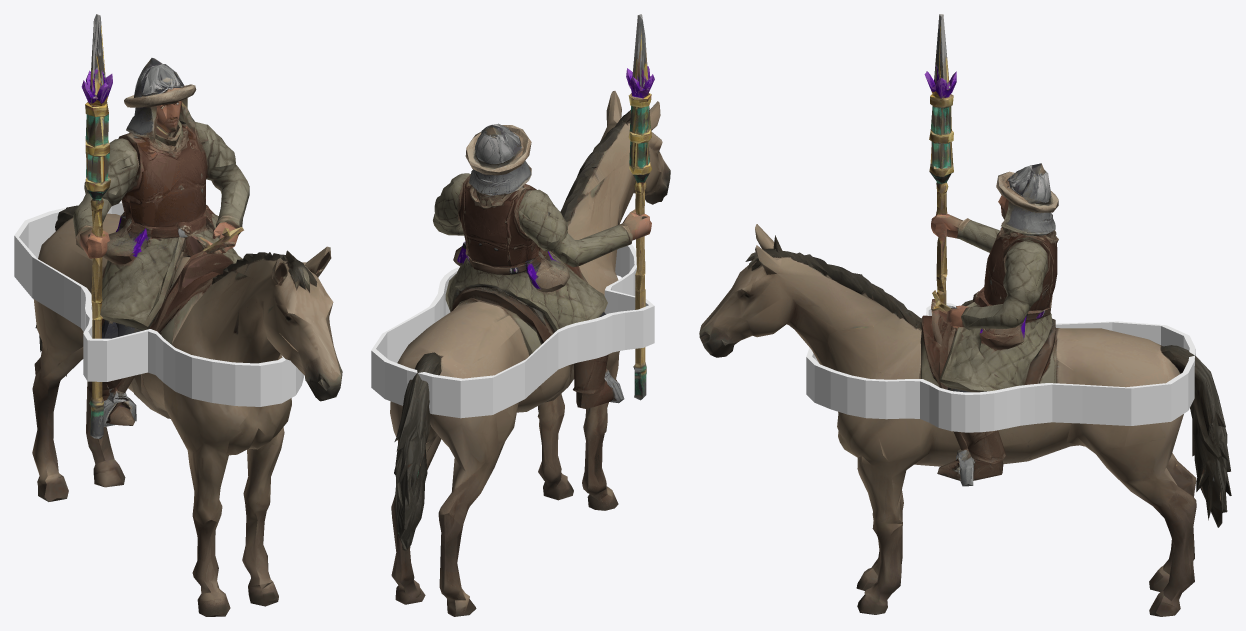
The model's file is steppe_fire_lancer.glb.
3 renders of one model, left to right at view 1: azimuth 30°, elevation 25°; view 2: azimuth 150°, elevation 25°; view 3: azimuth 270°, elevation 25°, orthographic. The views are drawn at different scales.
Visible parts, largest first — view 1: steppe_fire_lancer, Team_band; view 2: steppe_fire_lancer, Team_band; view 3: steppe_fire_lancer, Team_band.
Boxes of the visible parts, left/top/right/bottom form: steppe_fire_lancer: left=32, top=14, right=342, bottom=616; Team_band: left=14, top=200, right=304, bottom=406; steppe_fire_lancer: left=390, top=14, right=670, bottom=616; Team_band: left=371, top=244, right=654, bottom=418; steppe_fire_lancer: left=699, top=14, right=1231, bottom=616; Team_band: left=806, top=303, right=1195, bottom=432.
Size of the model in its own units: 0.7085 by 1.9 by 1.7.
2 materials, 1 textured.
